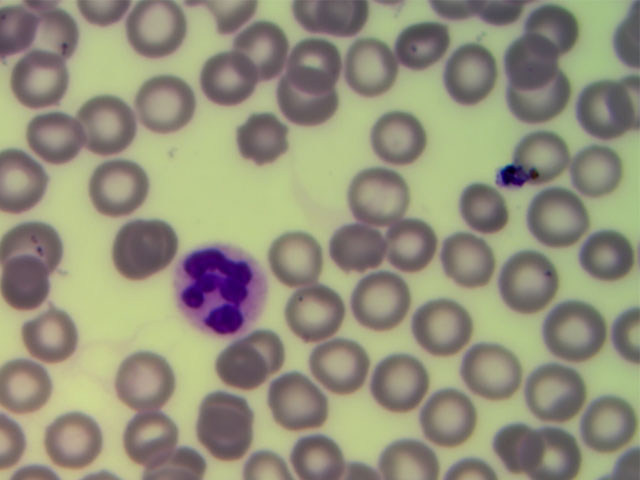RBC: (296, 417, 352, 480), (11, 51, 67, 113), (22, 102, 78, 164), (3, 145, 59, 207), (77, 92, 133, 154), (138, 73, 194, 135), (128, 3, 184, 65), (202, 50, 258, 112), (230, 18, 286, 80), (282, 27, 338, 89), (276, 70, 332, 132), (236, 104, 292, 166), (367, 108, 423, 170), (342, 37, 398, 99), (389, 15, 445, 77), (449, 38, 505, 100), (504, 28, 560, 90), (534, 2, 590, 64), (516, 59, 572, 121), (578, 76, 634, 138), (517, 120, 573, 182), (564, 138, 620, 200), (530, 189, 586, 251), (584, 226, 640, 288), (498, 247, 554, 309), (556, 311, 612, 373), (526, 356, 582, 418), (570, 390, 626, 452), (516, 417, 572, 479), (467, 410, 523, 472), (416, 385, 472, 447), (459, 342, 515, 404), (409, 296, 465, 358), (424, 228, 480, 290), (453, 187, 509, 249), (383, 204, 439, 266), (358, 168, 414, 230), (333, 213, 389, 275), (277, 230, 333, 292), (292, 286, 348, 348), (312, 333, 368, 395), (371, 353, 427, 415), (277, 376, 333, 438), (214, 343, 270, 405), (229, 325, 285, 387), (200, 390, 256, 452), (135, 410, 191, 472), (114, 350, 170, 412), (48, 406, 104, 468), (1, 356, 57, 418), (22, 300, 78, 362), (6, 250, 62, 312), (6, 220, 62, 282), (103, 215, 159, 277), (95, 155, 151, 217), (25, 1, 81, 62)
WBC: (178, 238, 276, 337)
